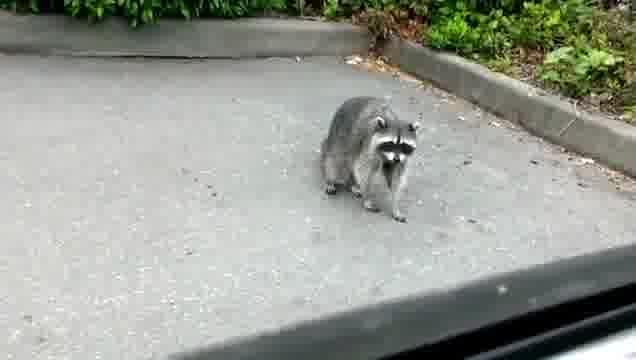raccoon: (317, 94, 421, 228)
